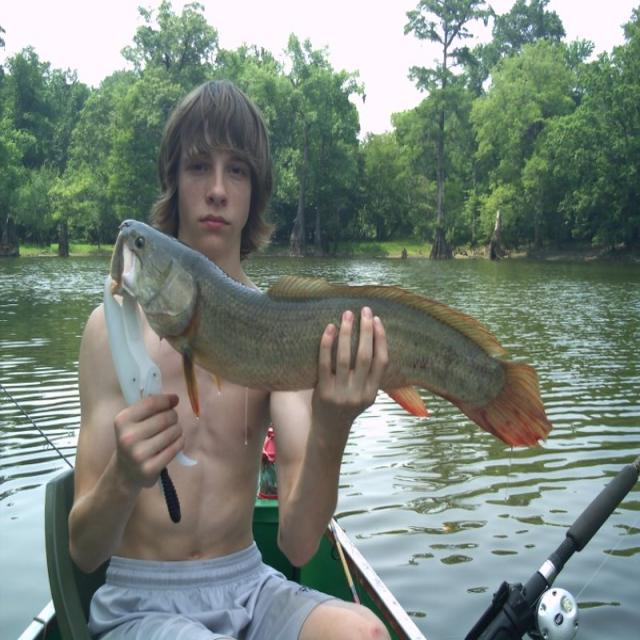Bowfin: (110, 220, 551, 446)
